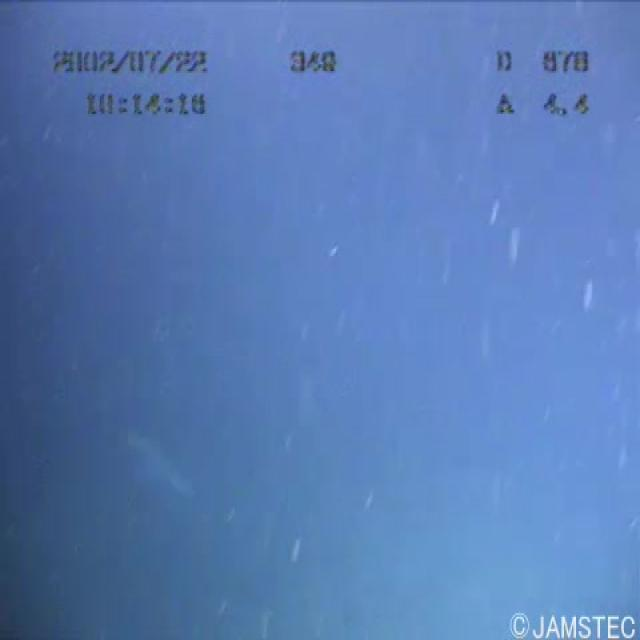plastic: (118, 404, 234, 514)
